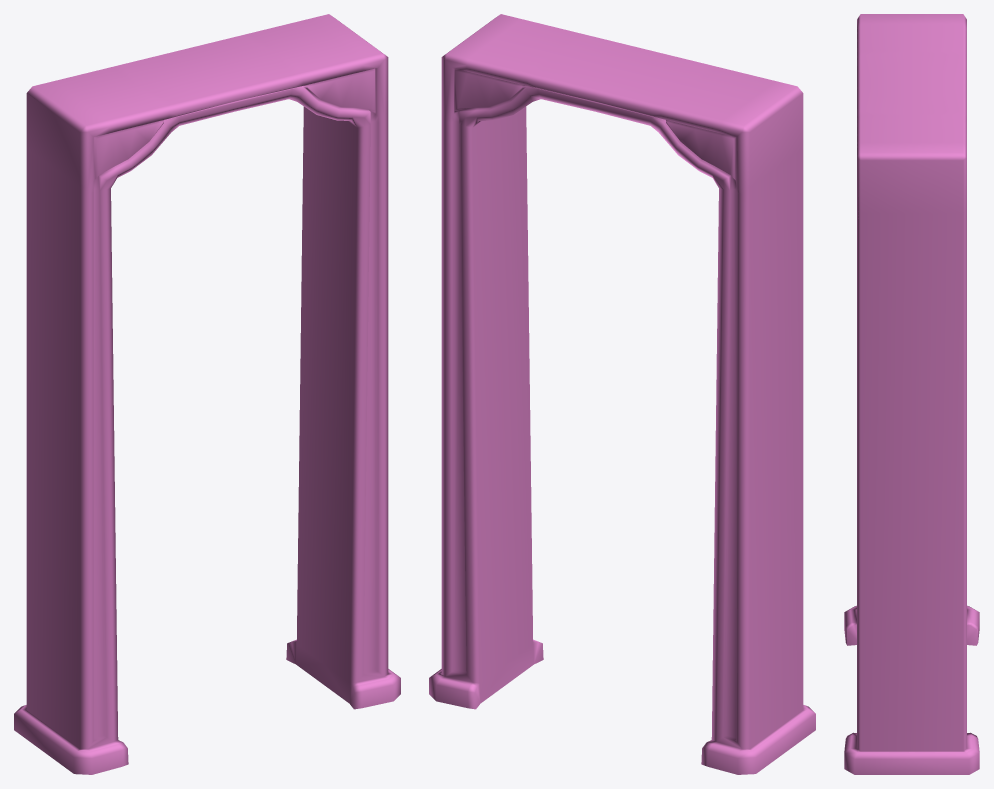
The model's file is ENV_HAU_DOORFRAME_MODEL.fbx.
The picture shows the model from 3 angles, left to right: view 1: azimuth 30°, elevation 25°; view 2: azimuth 150°, elevation 25°; view 3: azimuth 270°, elevation 25°; orthographic projection. The views are drawn at different scales.
Parts seen in each view (by area): view 1: ENV_HAU_DOORFRAME_MODEL; view 2: ENV_HAU_DOORFRAME_MODEL; view 3: ENV_HAU_DOORFRAME_MODEL.
Part boxes in pixels (x1,y1,x2,y2): ENV_HAU_DOORFRAME_MODEL: (14, 14, 400, 774); ENV_HAU_DOORFRAME_MODEL: (429, 14, 815, 774); ENV_HAU_DOORFRAME_MODEL: (844, 14, 979, 774).
Size of the model in its own units: 106 by 199 by 39.76.
